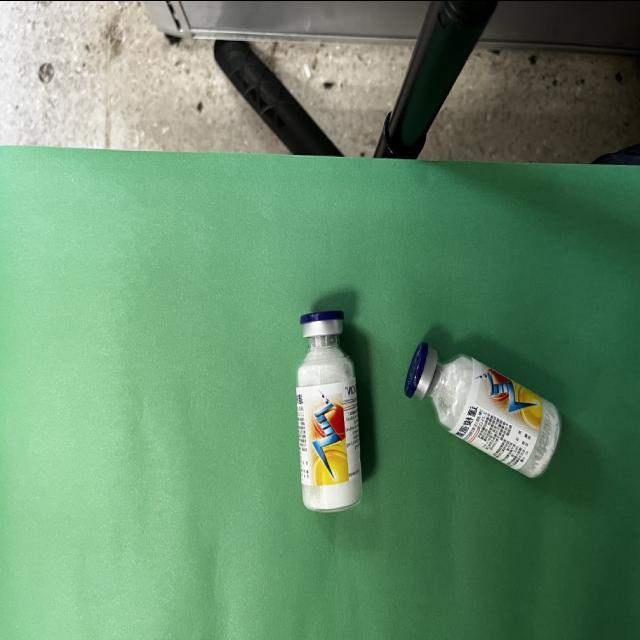Vials: (404, 341, 561, 476), (296, 311, 362, 511)
